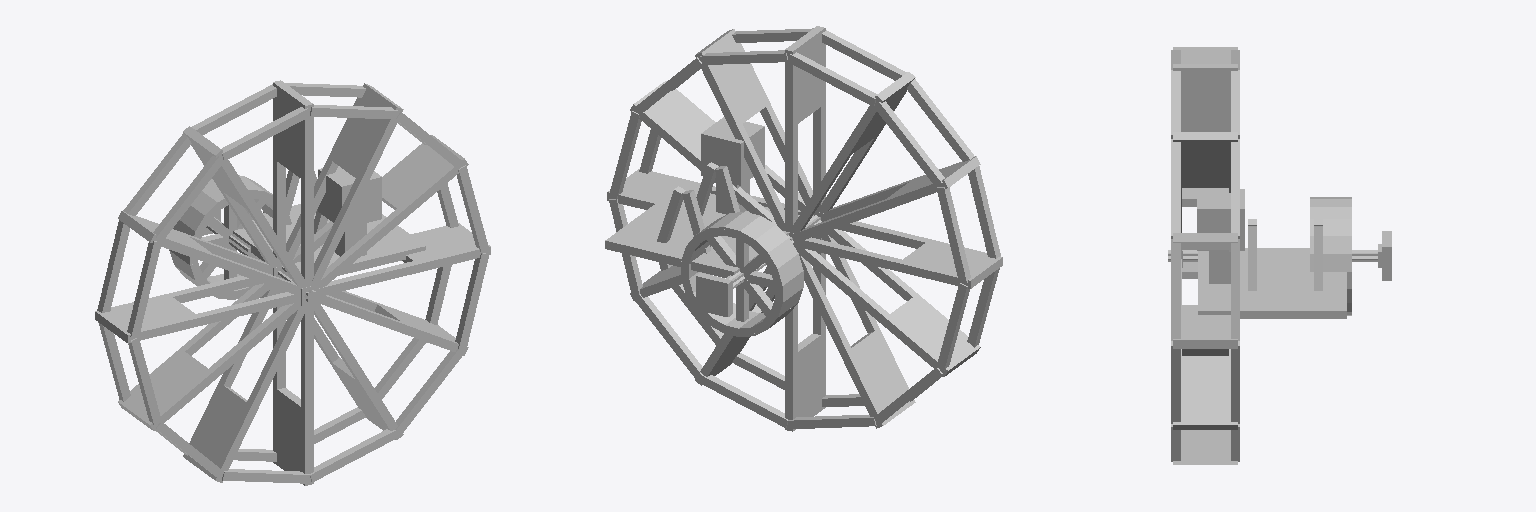
Rendered from waterwheel_generator.obj.
3 renders of one model, left to right at view 1: azimuth 30°, elevation 25°; view 2: azimuth 150°, elevation 25°; view 3: azimuth 270°, elevation 25°, orthographic.
Visible parts, largest first — view 1: wheel, base; view 2: wheel, base; view 3: wheel, base.
Boxes of the visible parts, box(x1,y1,x2,y2) form: wheel: box(95, 80, 490, 485); base: box(222, 166, 425, 275); wheel: box(607, 26, 1002, 431); base: box(605, 117, 799, 277); wheel: box(1168, 47, 1391, 464); base: box(1197, 189, 1346, 318).
Size of the model in its own units: 2.81 by 2.81 by 1.5.